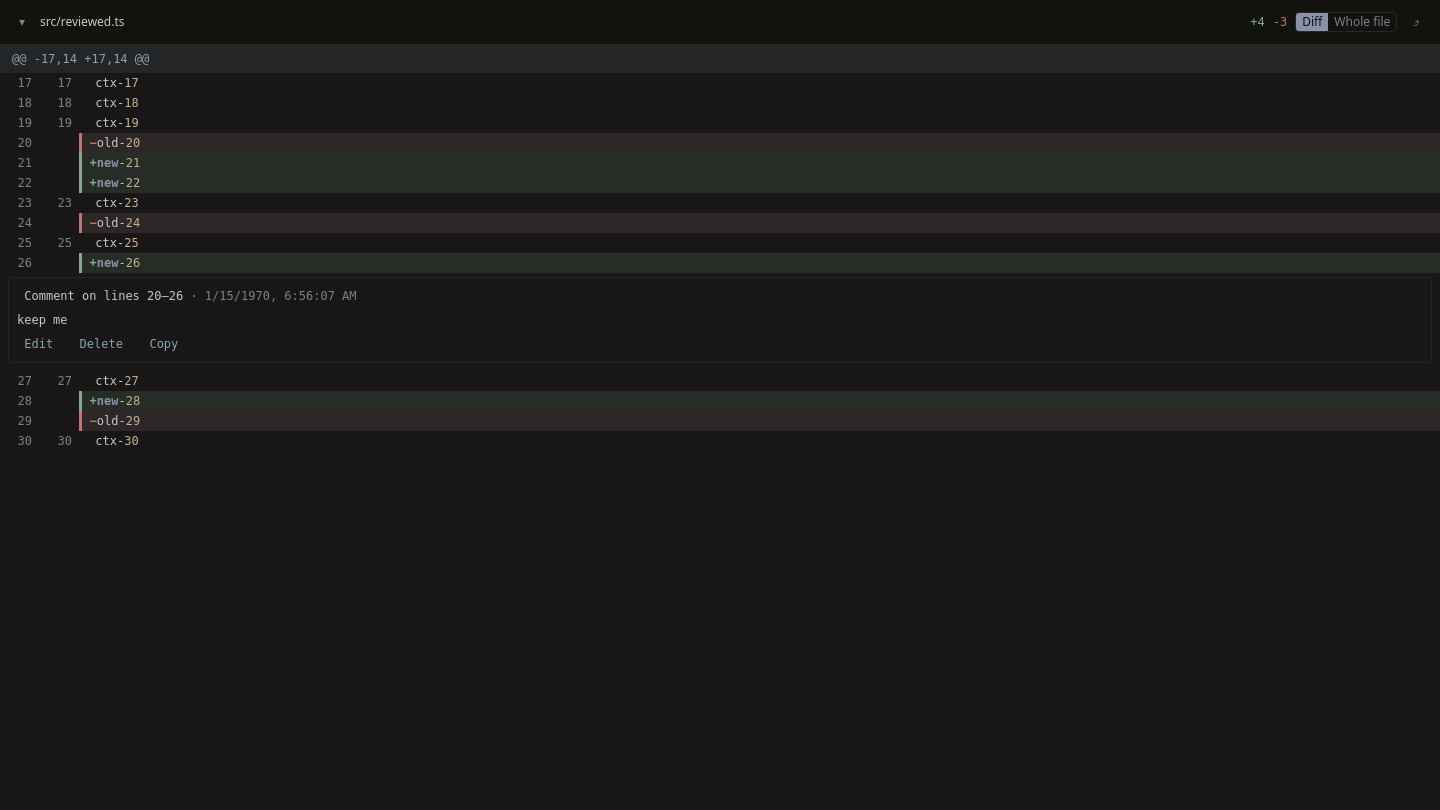
SidebarDiffView inline comment threads › Cancel closes the editor without changing the thread
The width and height of the screenshot is (1440, 810).
Click the button with test id "diff-comment-edit" at {"x": 39, "y": 344}, box [17,334,60,354]
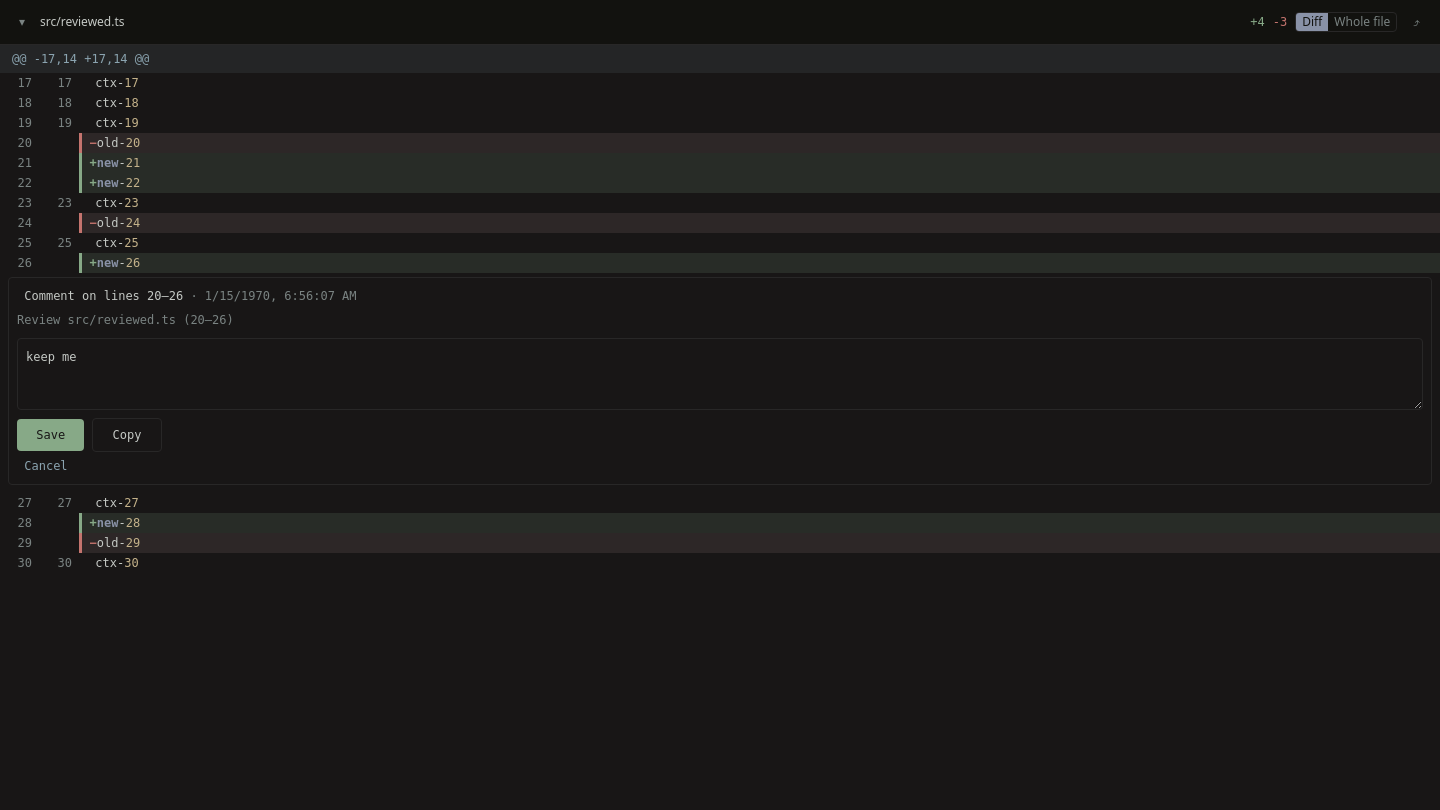
Replace the text in the text box with test id "diff-comment-input" with "changed mind" at {"x": 720, "y": 374}, box [17,338,1423,410]
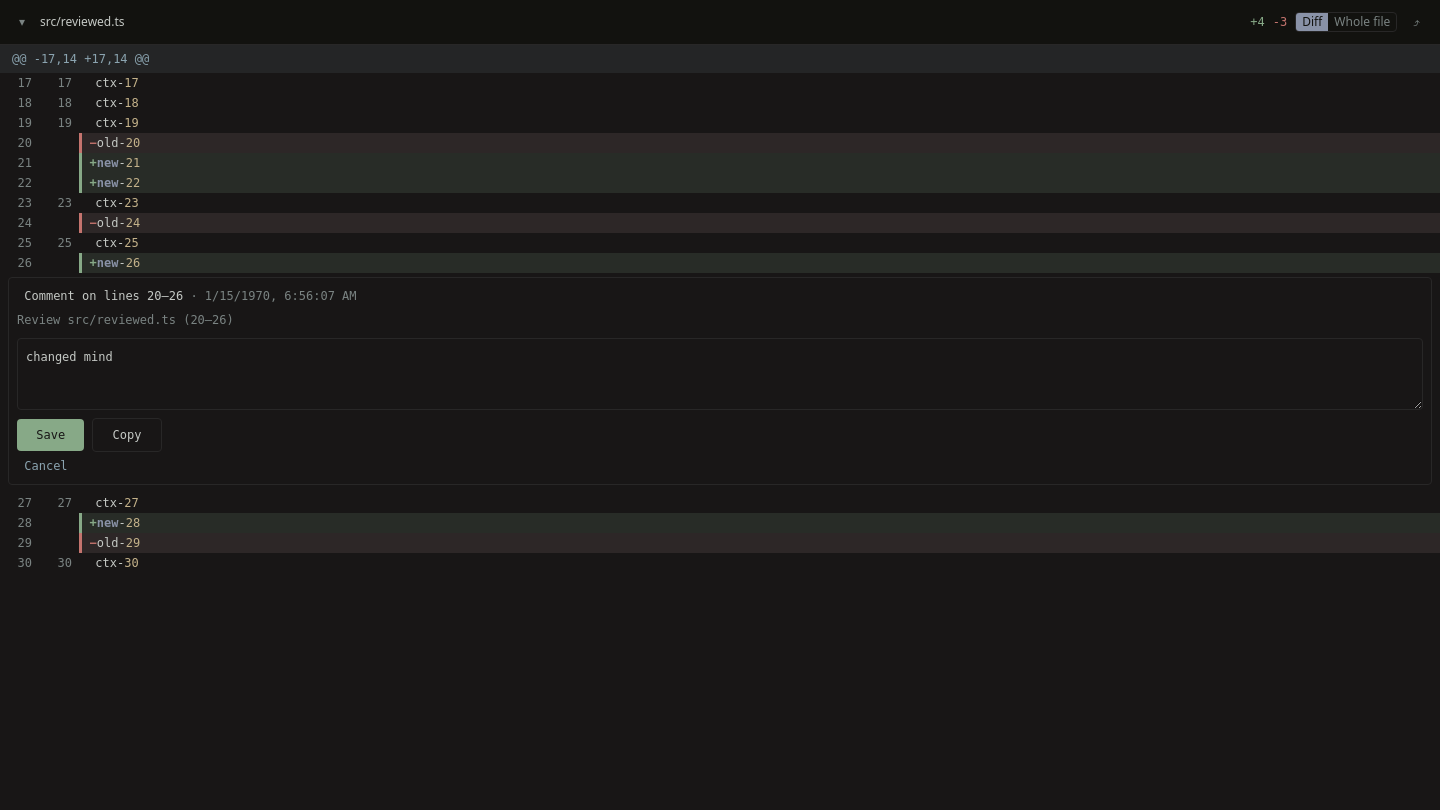
Click the button with test id "diff-comment-cancel" at {"x": 46, "y": 466}, box [17,456,75,476]
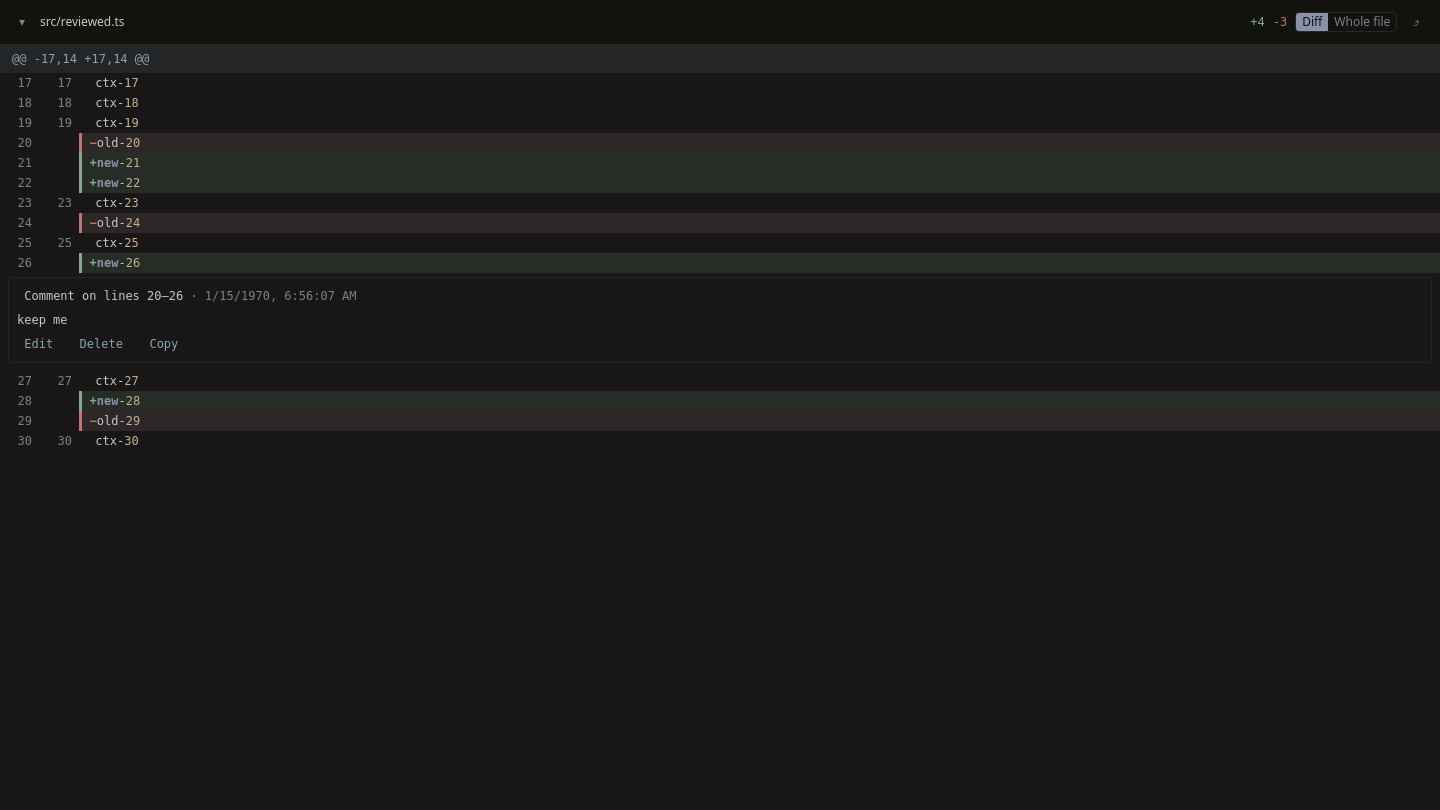
Expected: the text with test id "diff-comment-message" reads "keep me", [17,313,68,327]
